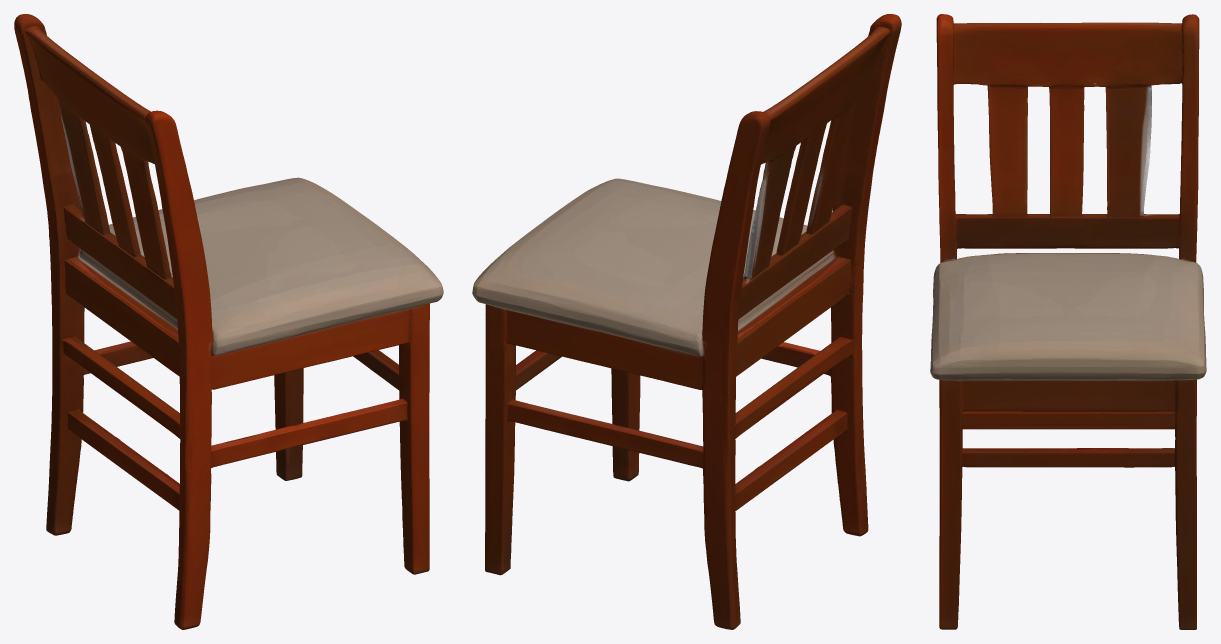
Rendered from dining_chair_0.obj.
The picture shows the model from 3 angles, left to right: view 1: azimuth 30°, elevation 25°; view 2: azimuth 150°, elevation 25°; view 3: azimuth 270°, elevation 25°; orthographic projection. The views are drawn at different scales.
Bounding box in the file's own units: 0.5402 × 0.925 × 0.4723.
1 material, 1 textured.
